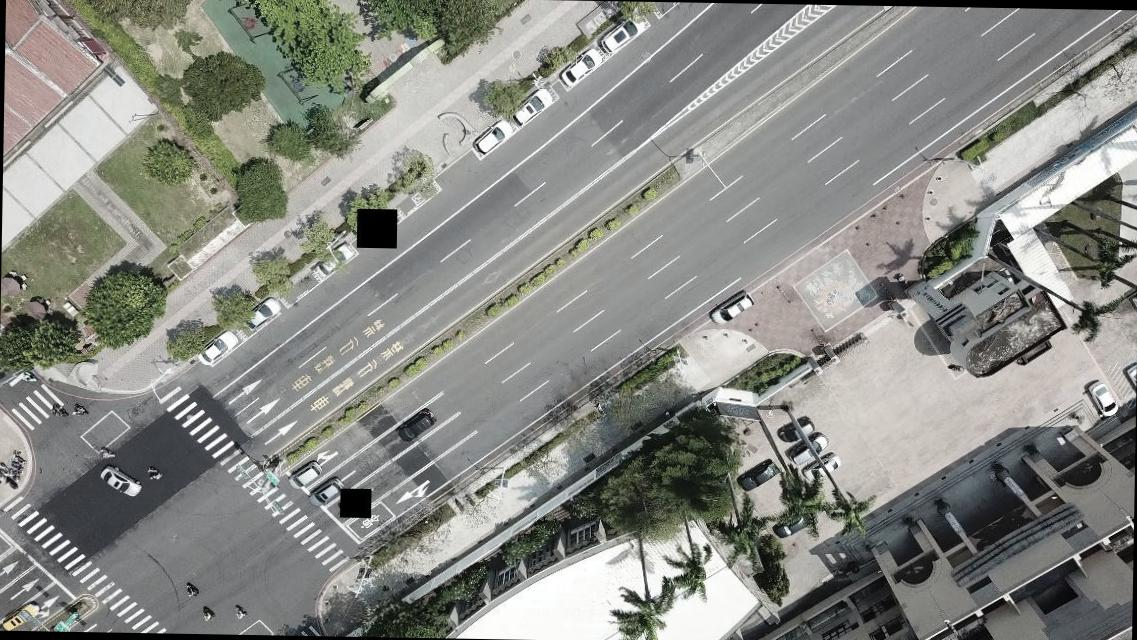vehicle: (511, 87, 554, 126), (710, 288, 754, 326), (601, 16, 644, 54), (197, 328, 239, 366), (561, 48, 603, 86), (474, 117, 514, 156), (100, 464, 144, 498), (396, 408, 436, 443), (737, 460, 780, 491), (242, 296, 280, 331), (789, 432, 828, 464), (1086, 381, 1119, 418), (316, 244, 354, 276), (803, 450, 840, 481), (308, 476, 344, 506), (288, 460, 323, 490), (774, 511, 812, 538), (2, 603, 40, 630), (778, 416, 813, 442)
